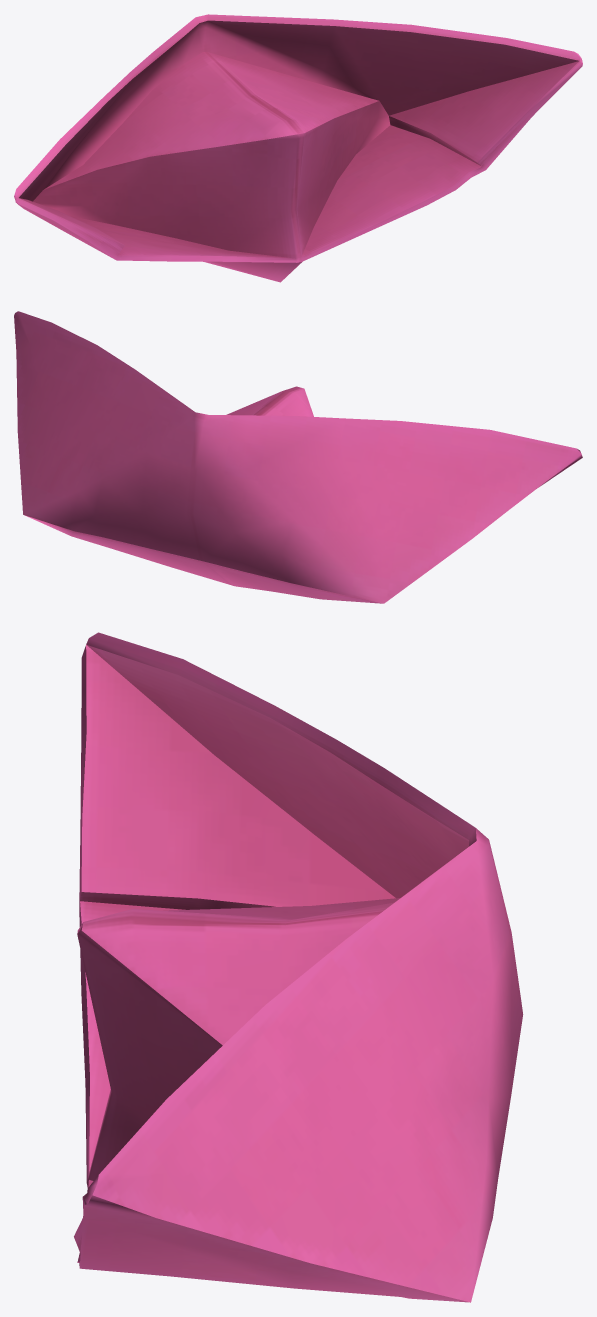
File: ref_gtpaperboat.glb
3 views of the same model, one above another, from view 1: azimuth 30°, elevation 25°; view 2: azimuth 150°, elevation 25°; view 3: azimuth 270°, elevation 25° (orthographic). The views are drawn at different scales.
Visible parts, largest first — view 1: ref_gtpaperboat; view 2: ref_gtpaperboat; view 3: ref_gtpaperboat.
Boxes of the visible parts, x1,y1,x2,y2 form: ref_gtpaperboat: (14, 14, 582, 282); ref_gtpaperboat: (14, 311, 582, 603); ref_gtpaperboat: (74, 632, 523, 1302).
Bounding box in the file's own units: 1 × 0.3511 × 0.3428.
1 material, 1 textured.
